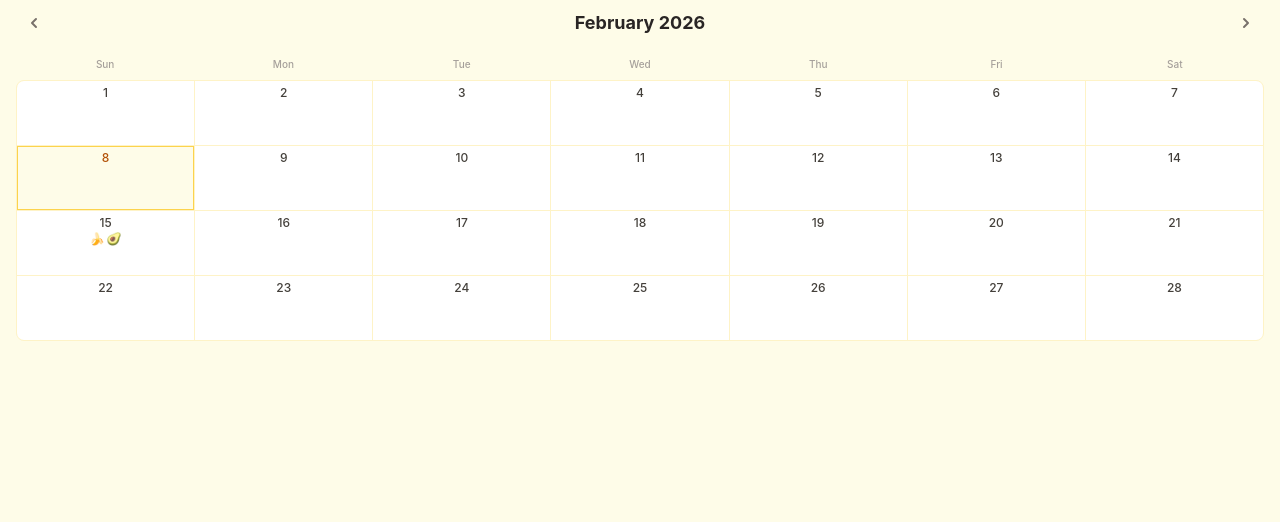
calendar › selecting a day shows the foods logged on that date
Note: Find the day button (not the date display)
Click the text "15" at (106, 223), box [100,217,112,229]
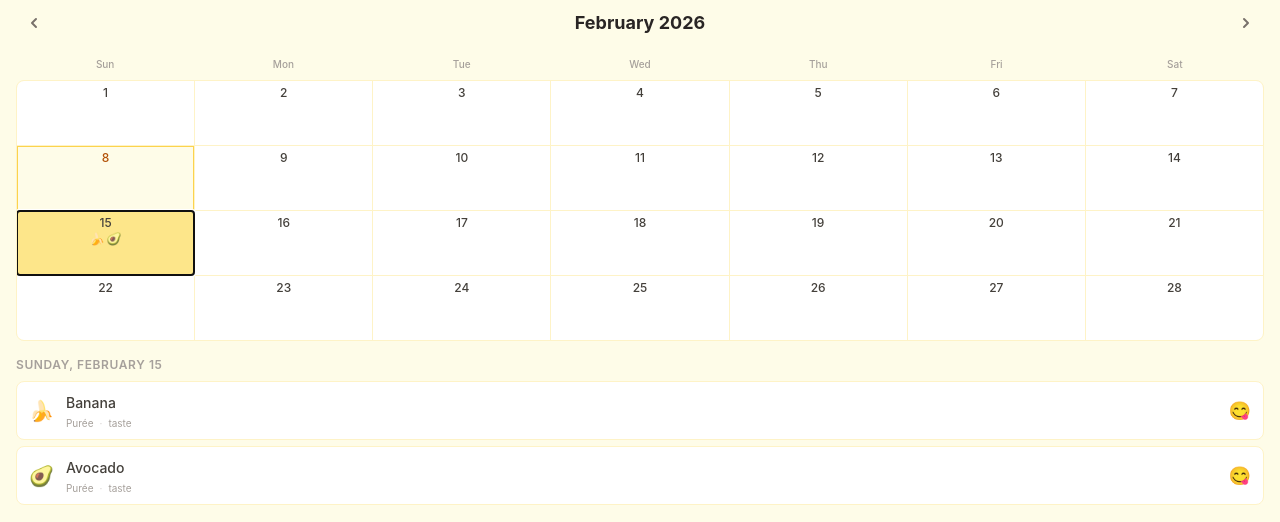
Now the text "Banana" is shown, box [66,394,116,411]
Now the text "Avocado" is shown, box [66,459,124,476]
